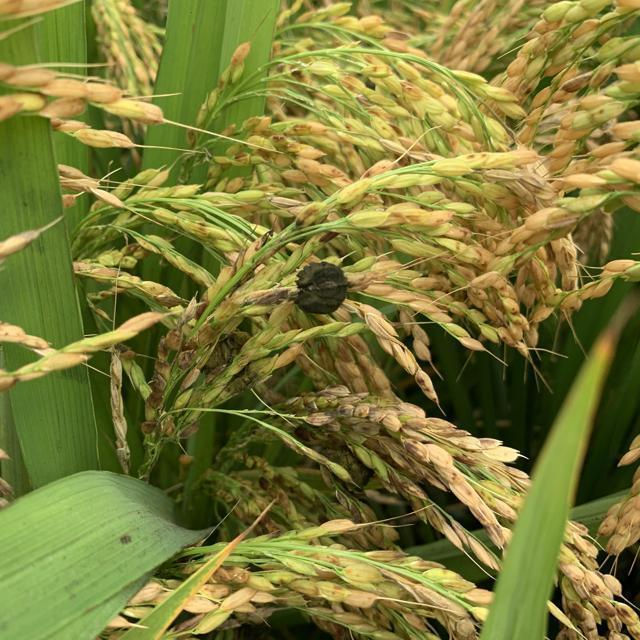Leaf_Scald: (287, 257, 352, 317)
